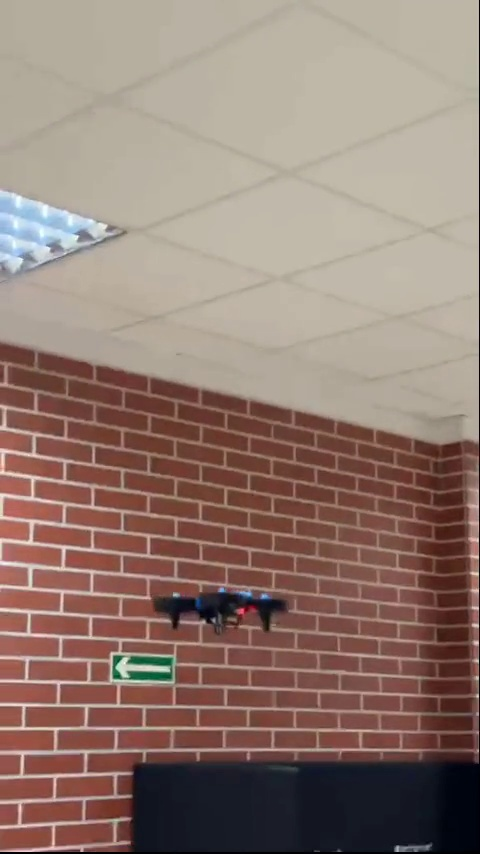drone: (153, 586, 293, 634)
